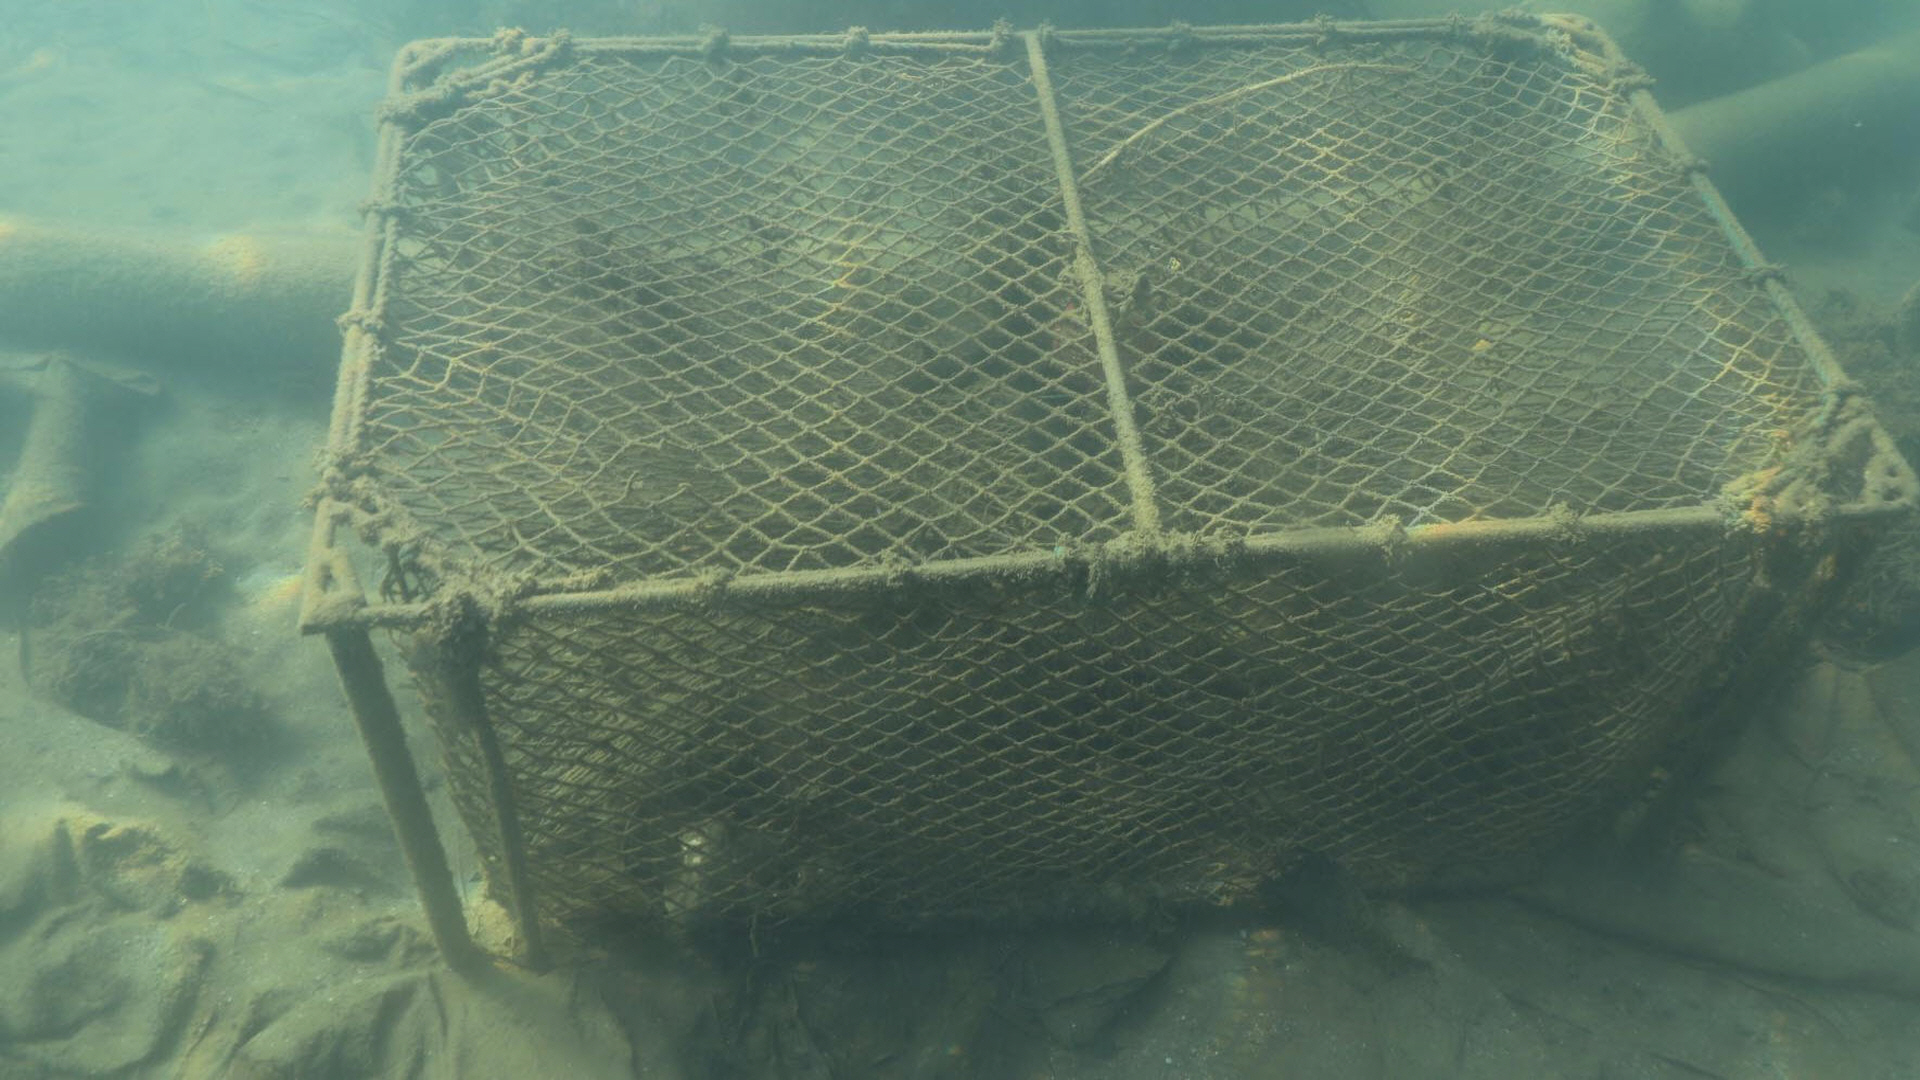rectangular fish trap: (293, 7, 1920, 967)
